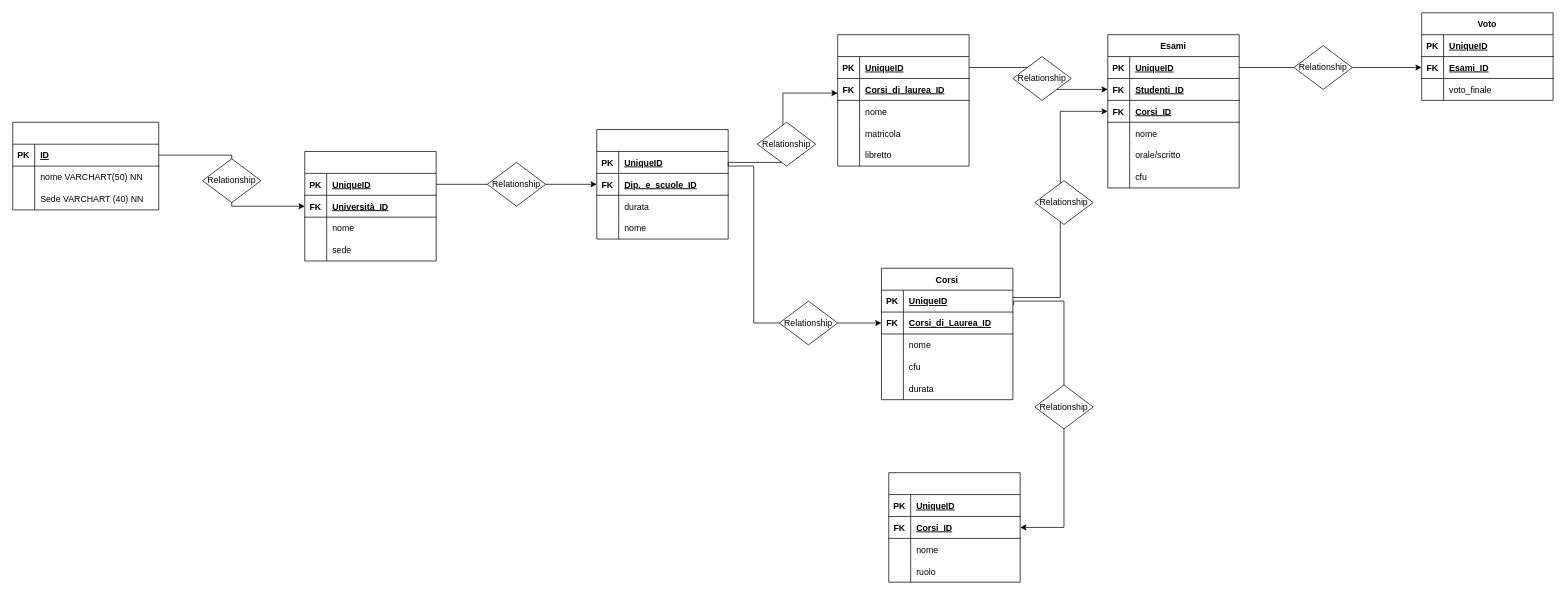
Image size: 1566x595. Some labels were removed from this diagram. Here are the shapes that lost their labels. From the top down, the box of each, then its label:
(837, 34, 969, 166): Studenti
(12, 122, 159, 210): Università
(596, 129, 728, 239): Corsi di Laurea
(304, 151, 436, 261): Dip. e scuole
(888, 472, 1020, 582): Insegnanti
